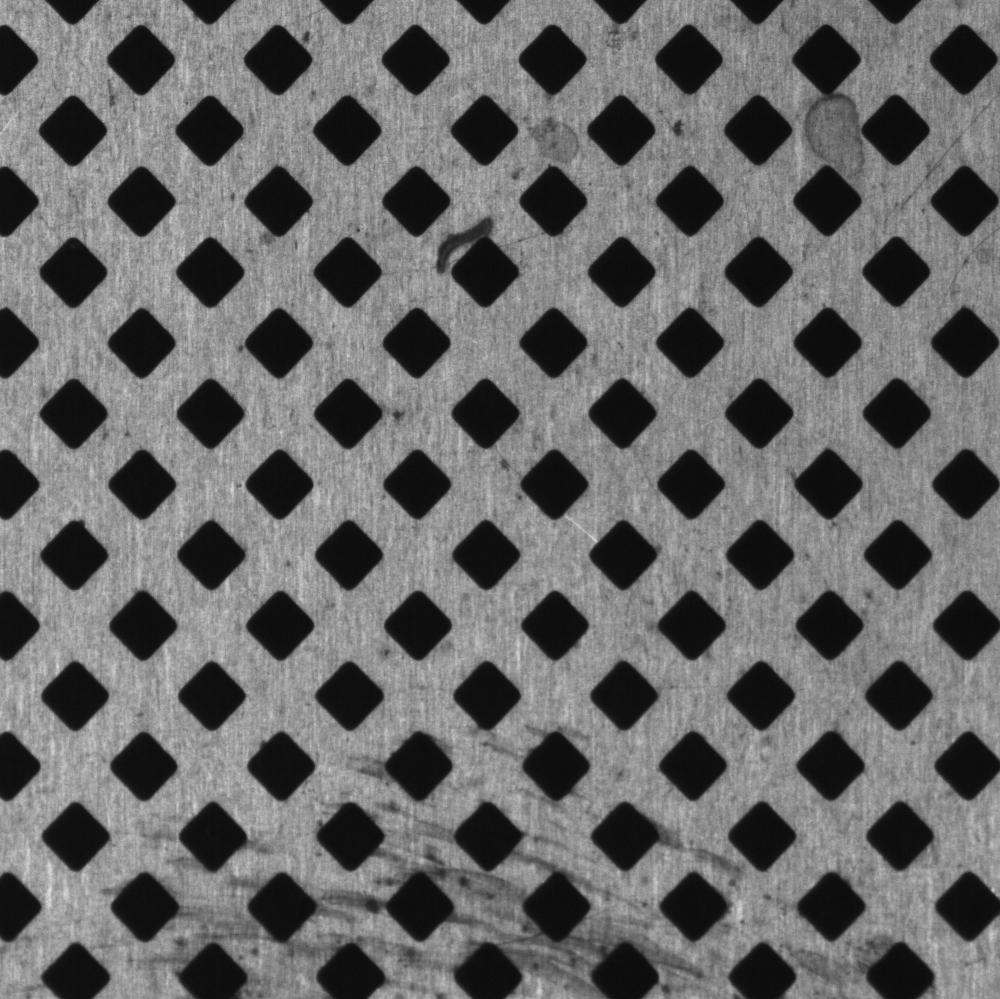Discolor: (588, 804, 885, 998), (296, 793, 580, 992), (797, 84, 878, 181), (518, 101, 593, 178), (430, 208, 497, 278)
Scar: (885, 81, 993, 225), (933, 229, 990, 317)
